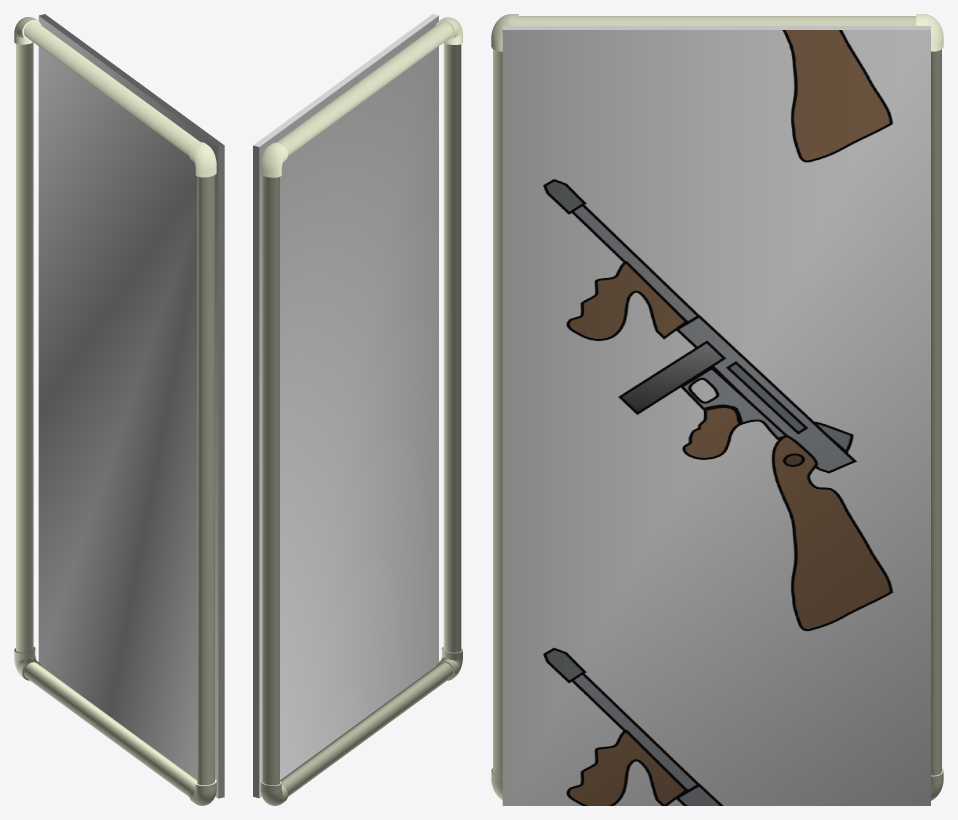
The model's file is buoy_bootlegger.dae.
3 renders of one model, left to right at view 1: azimuth 30°, elevation 25°; view 2: azimuth 150°, elevation 25°; view 3: azimuth 270°, elevation 25°, orthographic. The views are drawn at different scales.
Visible parts, largest first — view 1: canvas, vert_left, vert_right, horiz_top, horiz_bottom, top_right, bottom_right, bottom_left; view 2: canvas, vert_right, vert_left, horiz_top, horiz_bottom, top_left, bottom_left, bottom_right; view 3: canvas, vert_left, vert_right, horiz_top.
Part boxes in pixels (box(x1,y1,x2,y2)): canvas: box(38, 14, 224, 798); vert_left: box(16, 42, 33, 652); vert_right: box(197, 175, 214, 785); horiz_top: box(24, 21, 200, 155); horiz_bottom: box(24, 662, 197, 796); top_right: box(189, 142, 216, 177); bottom_right: box(189, 779, 216, 805); bottom_left: box(14, 647, 41, 680); canvas: box(253, 14, 438, 798); vert_right: box(443, 43, 461, 652); vert_left: box(262, 175, 279, 785); horiz_top: box(277, 22, 453, 156); horiz_bottom: box(280, 662, 453, 796); top_left: box(260, 142, 287, 177); bottom_left: box(260, 779, 287, 805); bottom_right: box(436, 646, 462, 680); canvas: box(502, 26, 930, 805); vert_left: box(931, 49, 941, 775); vert_right: box(493, 49, 502, 775); horiz_top: box(518, 16, 916, 25).
Bounding box in the file's own units: 0.0566 × 0.6441 × 1.24.
Materials: 3 (1 with a texture image).
